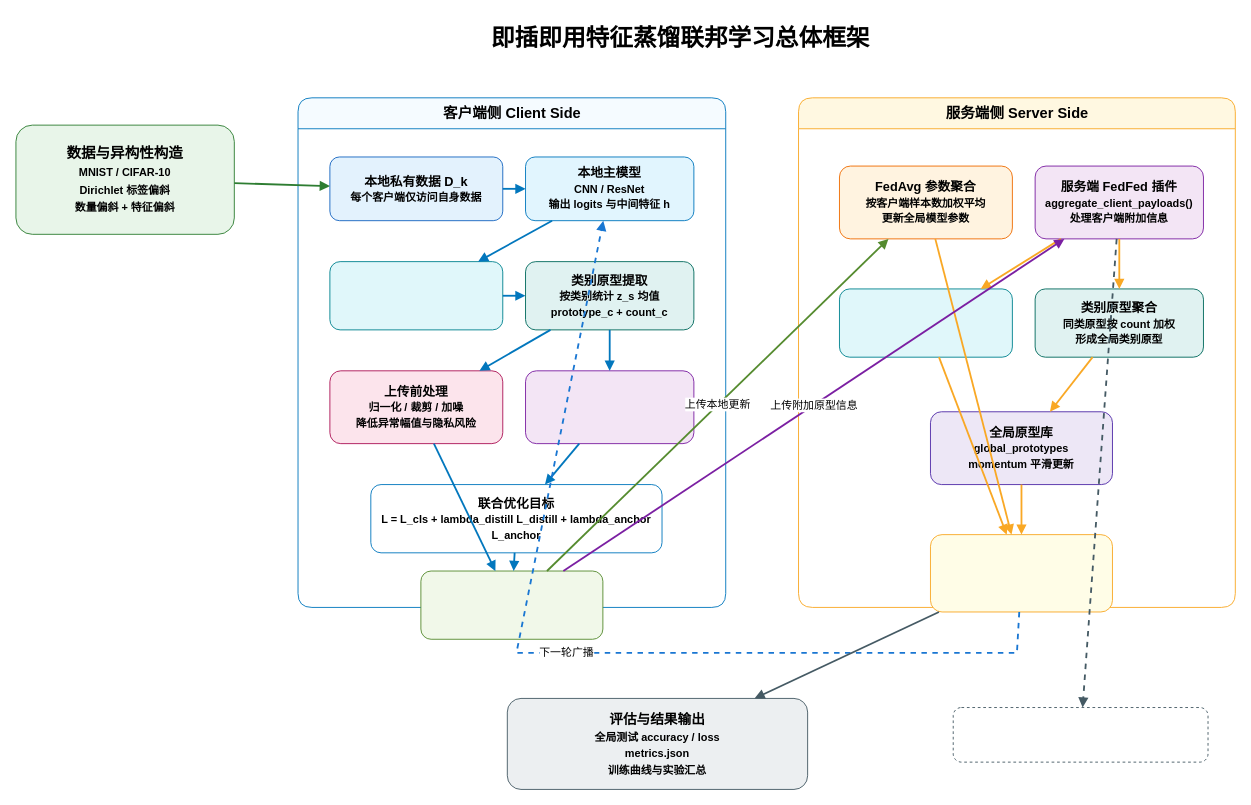
Some shapes in this 1251 by 805 pixel diagram are drawn without their labels. Here are the shapes that lost their labels. From the top down, the box of each, then its label:
(329, 261, 503, 330): 低维投影模块 FeatureSplitModule h -> z_s
(839, 288, 1012, 357): 投影层状态聚合 projection_state 样本数加权平均
(525, 370, 694, 444): 原型蒸馏训练 本地原型对齐全局原型 cosine / MSE distill loss
(930, 534, 1112, 612): 服务端广播 global model projection_state global prototypes
(420, 570, 603, 639): 客户端上传 模型参数 weights projection_state class prototypes
(952, 707, 1208, 762): 插件关闭时：系统退化为标准 FedAvg 基线
